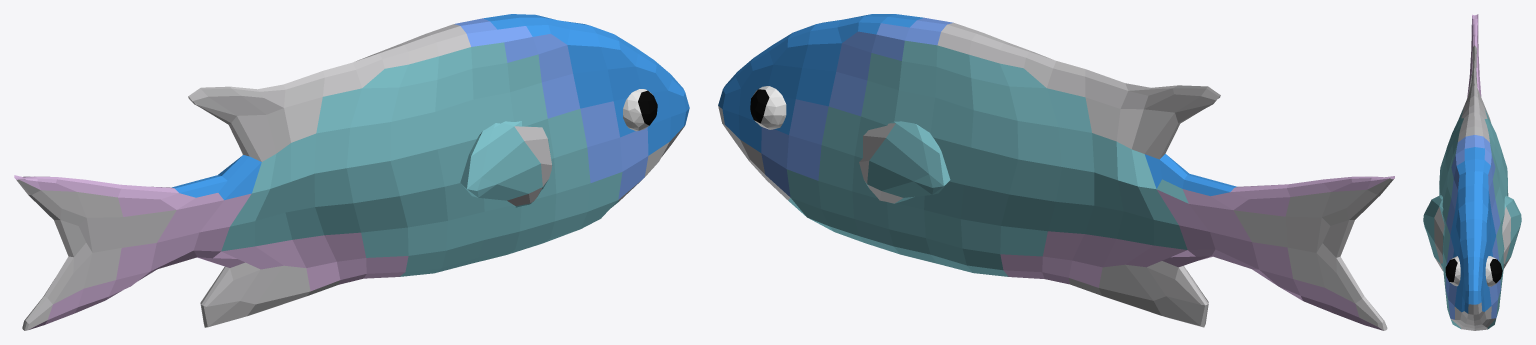
The model's file is CHROMIS BLUE.fbx.
The picture shows the model from 3 angles, left to right: view 1: azimuth 30°, elevation 25°; view 2: azimuth 150°, elevation 25°; view 3: azimuth 270°, elevation 25°; orthographic projection. The views are drawn at different scales.
Visible parts, largest first — view 1: Plane.001; view 2: Plane.001; view 3: Plane.001.
Part boxes in pixels (x1=…): Plane.001: x1=14, y1=14, x2=689, y2=330; Plane.001: x1=718, y1=14, x2=1394, y2=330; Plane.001: x1=1423, y1=14, x2=1521, y2=330.
Bounding box in the file's own units: 6.87 × 2.36 × 1.26.
